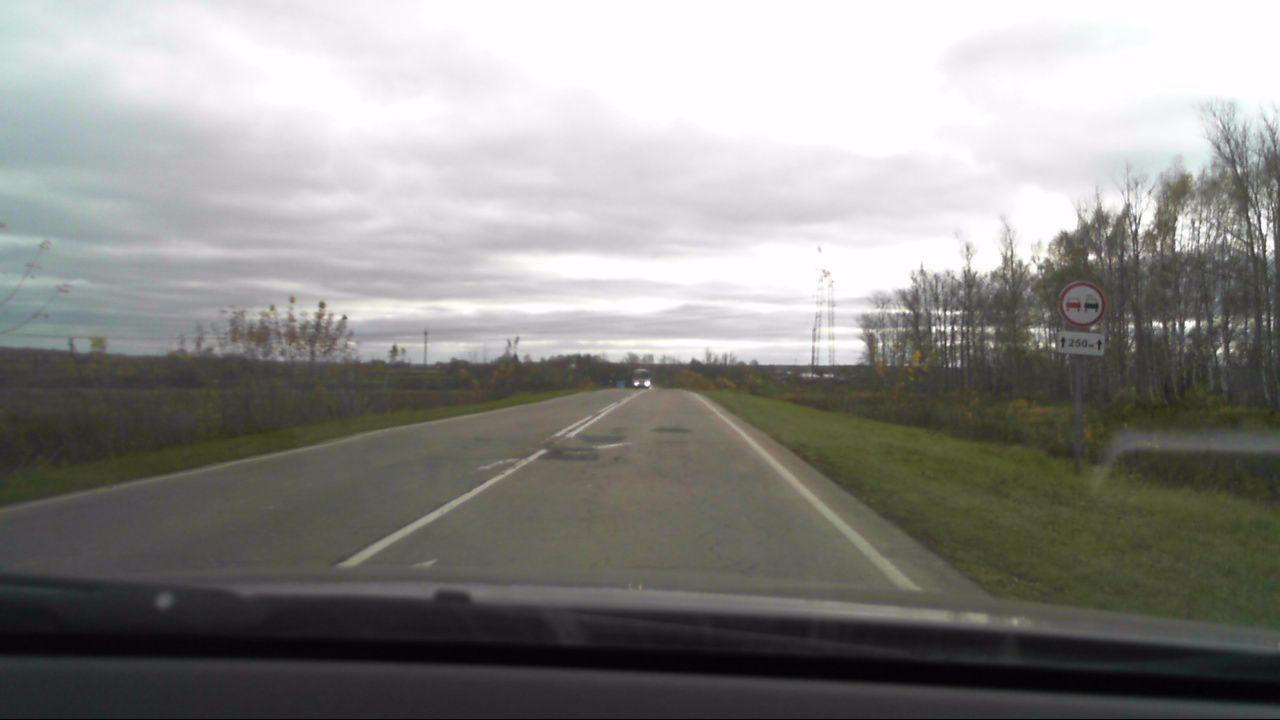3_20: (1057, 280, 1107, 330)
8_2_1: (1055, 332, 1105, 357)
